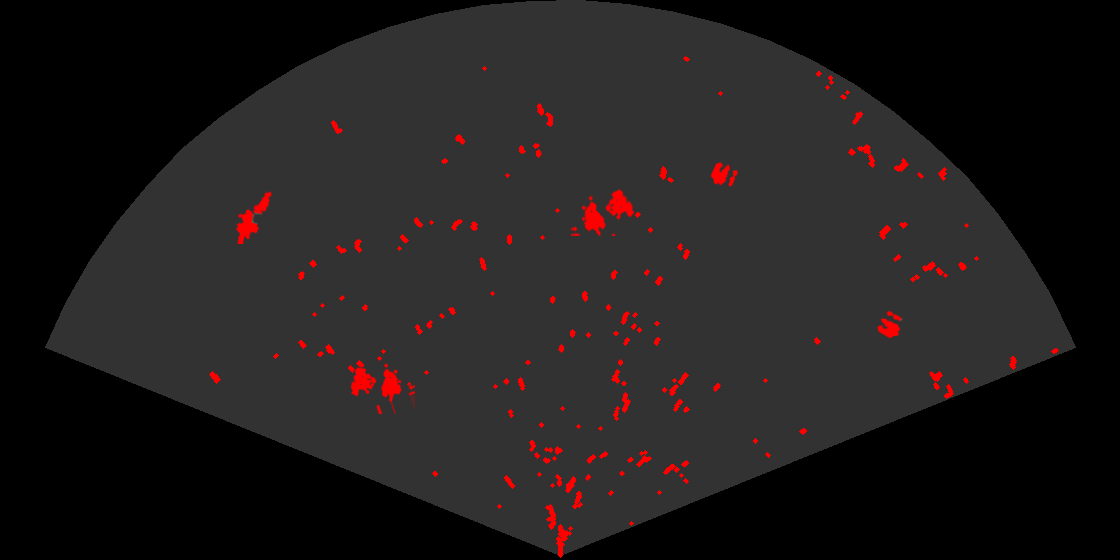ball: (875, 309, 904, 340), (709, 160, 740, 188)
cage: (349, 362, 415, 414), (571, 187, 636, 236)
frogman: (234, 189, 273, 244)
